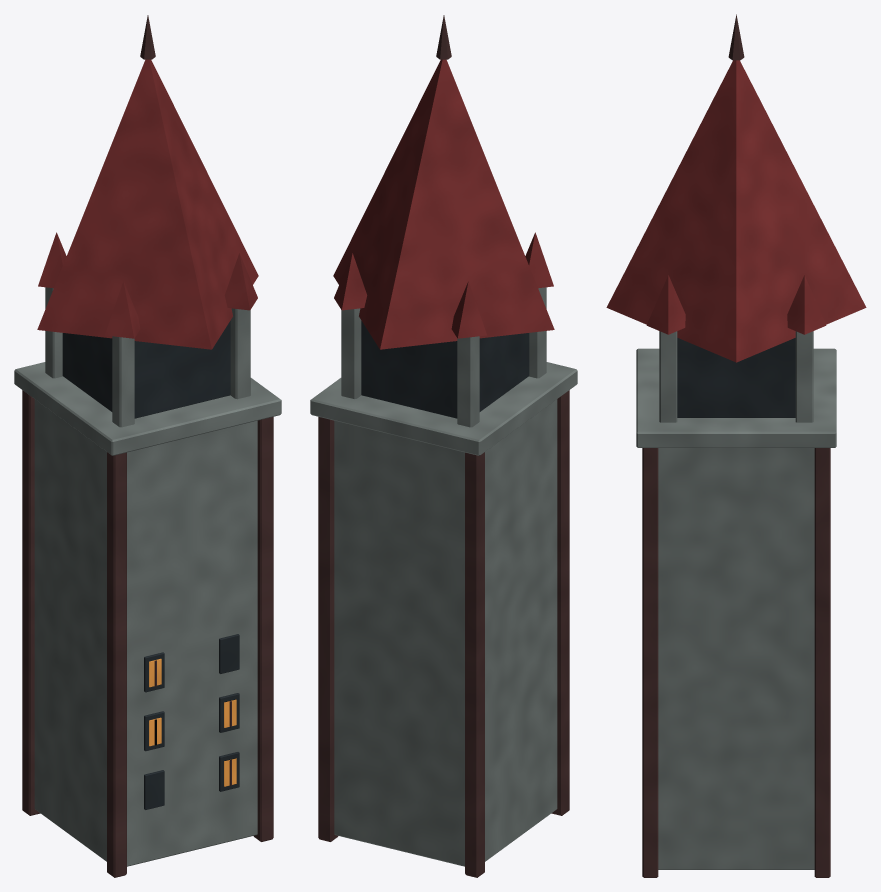
The model's file is needle_belfry.glb.
The picture shows the model from 3 angles, left to right: view 1: azimuth 30°, elevation 25°; view 2: azimuth 150°, elevation 25°; view 3: azimuth 270°, elevation 25°; orthographic projection.
Visible parts, largest first — view 1: needle_belfry; view 2: needle_belfry; view 3: needle_belfry.
Boxes of the visible parts, bbox=[...] form: needle_belfry: bbox=[14, 15, 281, 877]; needle_belfry: bbox=[310, 15, 577, 877]; needle_belfry: bbox=[606, 14, 866, 877].
Bounding box in the file's own units: 6.5 × 22.75 × 6.5.
Materials: 5 (5 with a texture image).
